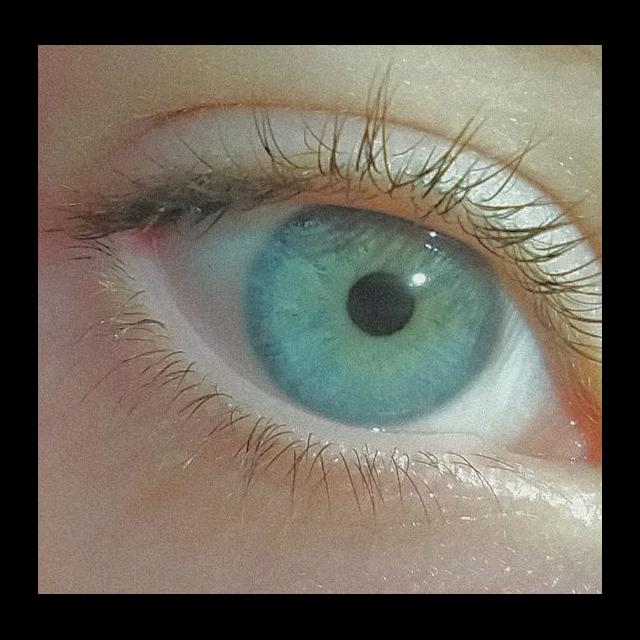eye: (149, 198, 553, 450)
iris: (248, 210, 504, 429)
